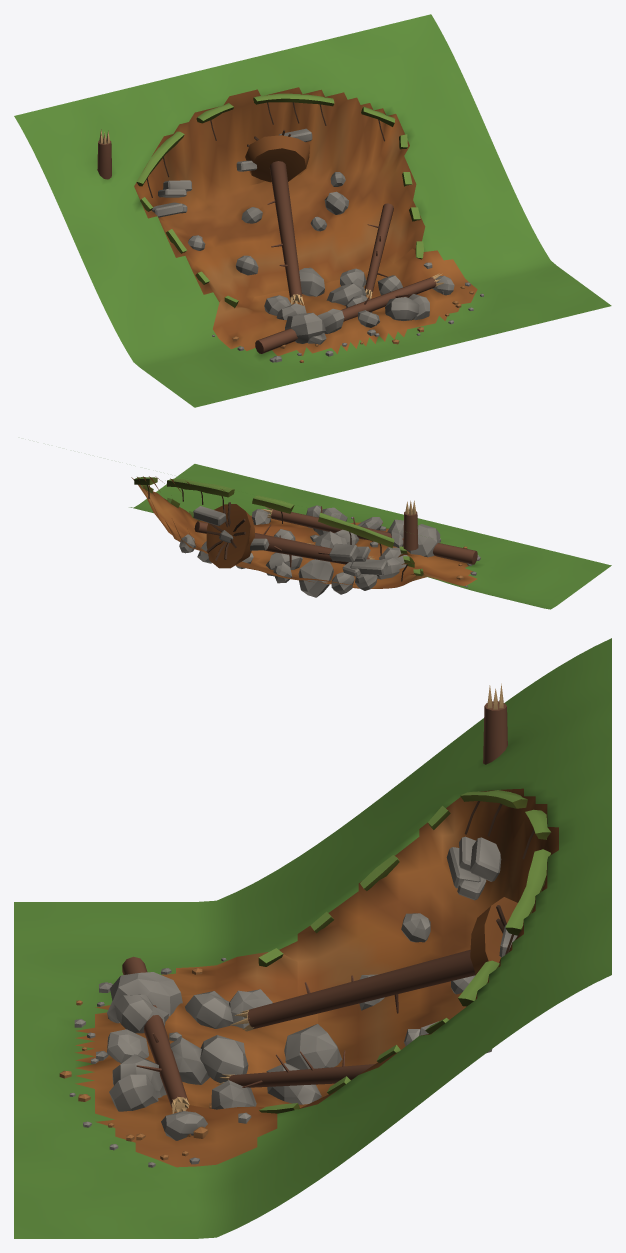
The model's file is landslide.glb.
The picture shows the model from 3 angles, top to bottom: view 1: azimuth 30°, elevation 25°; view 2: azimuth 150°, elevation 25°; view 3: azimuth 270°, elevation 25°; orthographic projection. The views are drawn at different scales.
Visible parts, largest first — view 1: landslide Earth, landslide Rock, landslide Bark, landslide Turf lip; view 2: landslide Earth, landslide Rock, landslide Bark, landslide Turf lip, landslide Roots; view 3: landslide Earth, landslide Rock, landslide Bark, landslide Turf lip.
Boxes of the visible parts, box(x1,y1,x2,y2) form: landslide Earth: box(14, 14, 611, 407); landslide Rock: box(152, 128, 483, 362); landslide Bark: box(97, 140, 436, 353); landslide Turf lip: box(136, 93, 423, 308); landslide Earth: box(129, 464, 611, 609); landslide Rock: box(179, 505, 480, 597); landslide Bark: box(194, 506, 477, 567); landslide Turf lip: box(134, 477, 423, 576); landslide Roots: box(147, 485, 407, 581); landslide Earth: box(14, 638, 611, 1238); landslide Rock: box(69, 836, 517, 1167); landslide Bark: box(122, 701, 507, 1111); landslide Turf lip: box(258, 790, 550, 1113).
Size of the model in its own units: 24 by 9.45 by 18.
